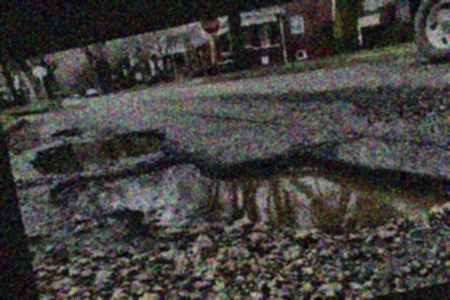pothole: (44, 96, 450, 300), (25, 120, 170, 183), (48, 122, 83, 141)
